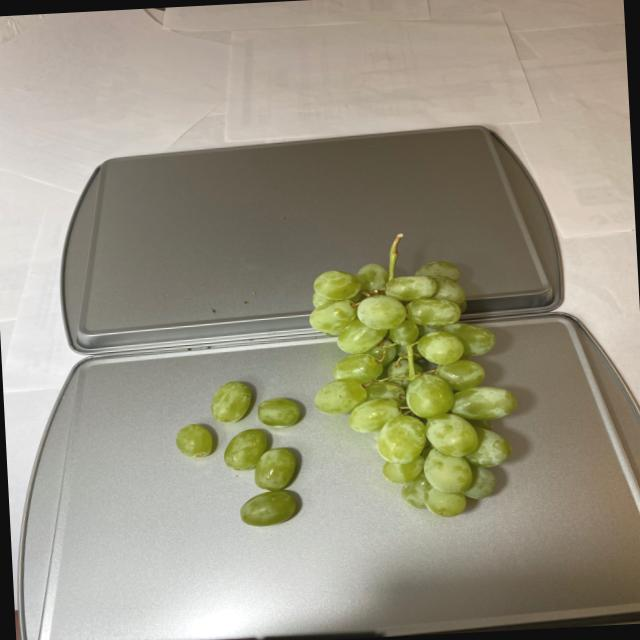grapes: (165, 226, 525, 542), (302, 223, 526, 534), (171, 372, 315, 532)
